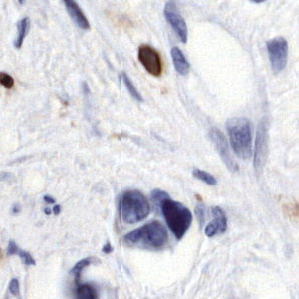Lymphocyte: (135, 42, 163, 77)
